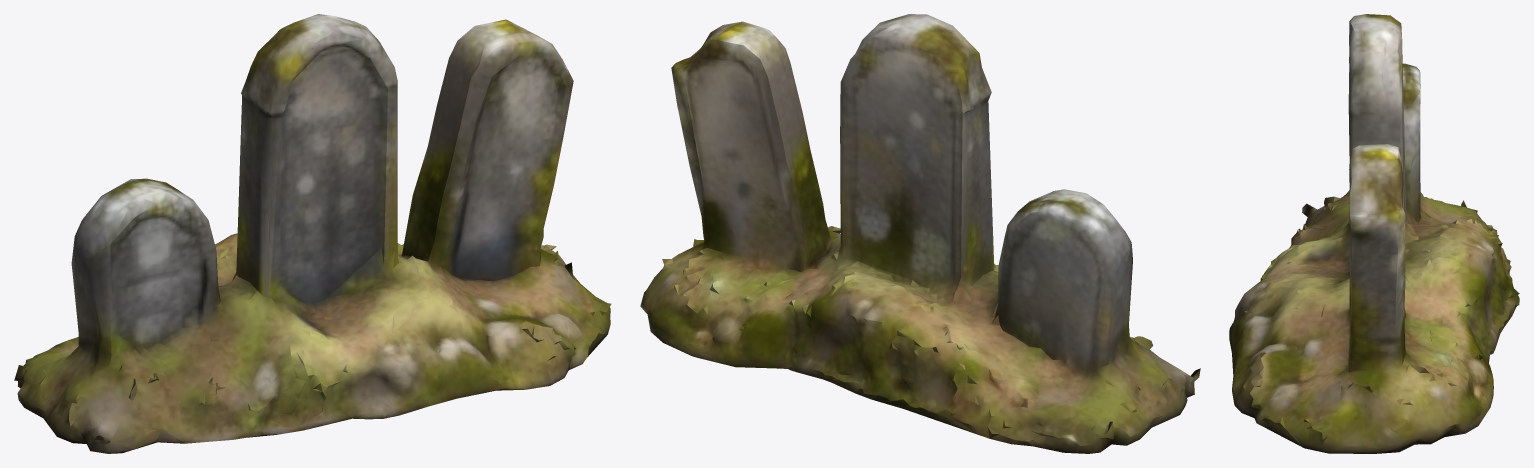
The model's file is prop-gravestones.glb.
The picture shows the model from 3 angles, left to right: view 1: azimuth 30°, elevation 25°; view 2: azimuth 150°, elevation 25°; view 3: azimuth 270°, elevation 25°; orthographic projection. The views are drawn at different scales.
Visible parts, largest first — view 1: prop-gravestones; view 2: prop-gravestones; view 3: prop-gravestones.
Boxes of the visible parts, x1,y1,x2,y2 form: prop-gravestones: (14,14,611,453); prop-gravestones: (640,14,1200,453); prop-gravestones: (1229,14,1519,453).
Size of the model in its own units: 2.17 by 1.35 by 1.12.
Materials: 1 (1 with a texture image).
